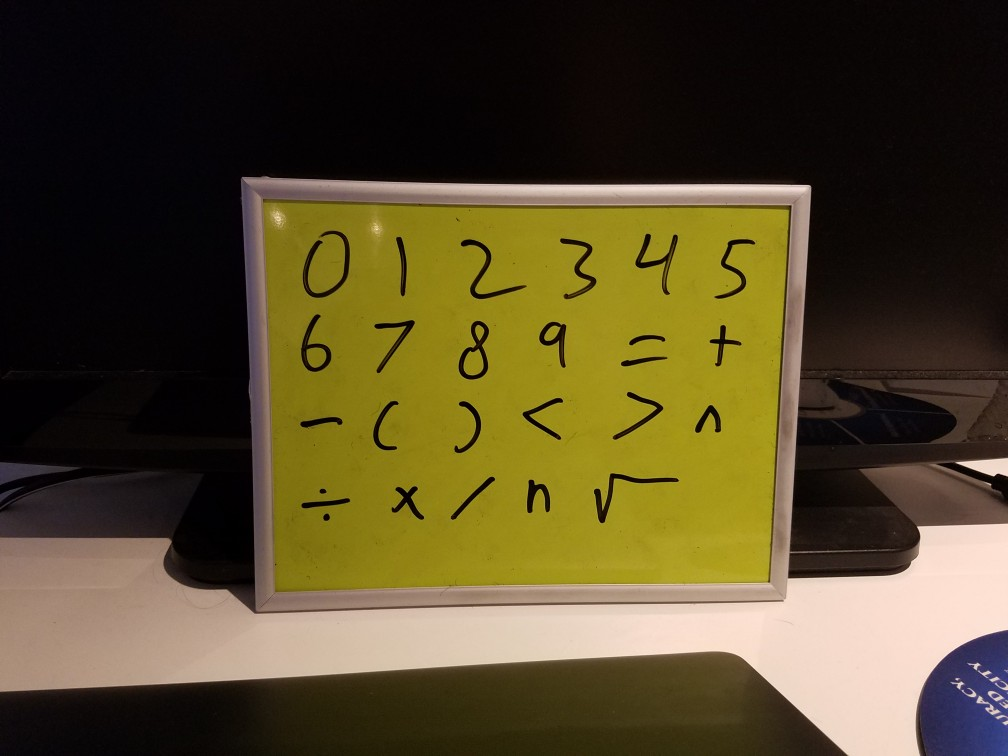(: (369, 398, 405, 463)
): (446, 395, 483, 457)
+: (699, 320, 751, 379)
-: (295, 405, 345, 434)
/: (446, 471, 501, 530)
0: (292, 224, 357, 304)
1: (382, 229, 413, 300)
2: (456, 229, 527, 307)
3: (557, 222, 603, 309)
4: (629, 220, 683, 307)
5: (707, 232, 763, 309)
6: (292, 307, 339, 386)
7: (366, 313, 417, 389)
8: (444, 309, 504, 394)
9: (535, 313, 574, 381)
<: (517, 392, 568, 451)
=: (612, 323, 682, 377)
>: (607, 380, 663, 446)
^: (691, 401, 724, 441)
div: (297, 470, 346, 532)
n: (515, 476, 556, 524)
sqrt: (579, 458, 692, 538)
x: (385, 476, 434, 530)
